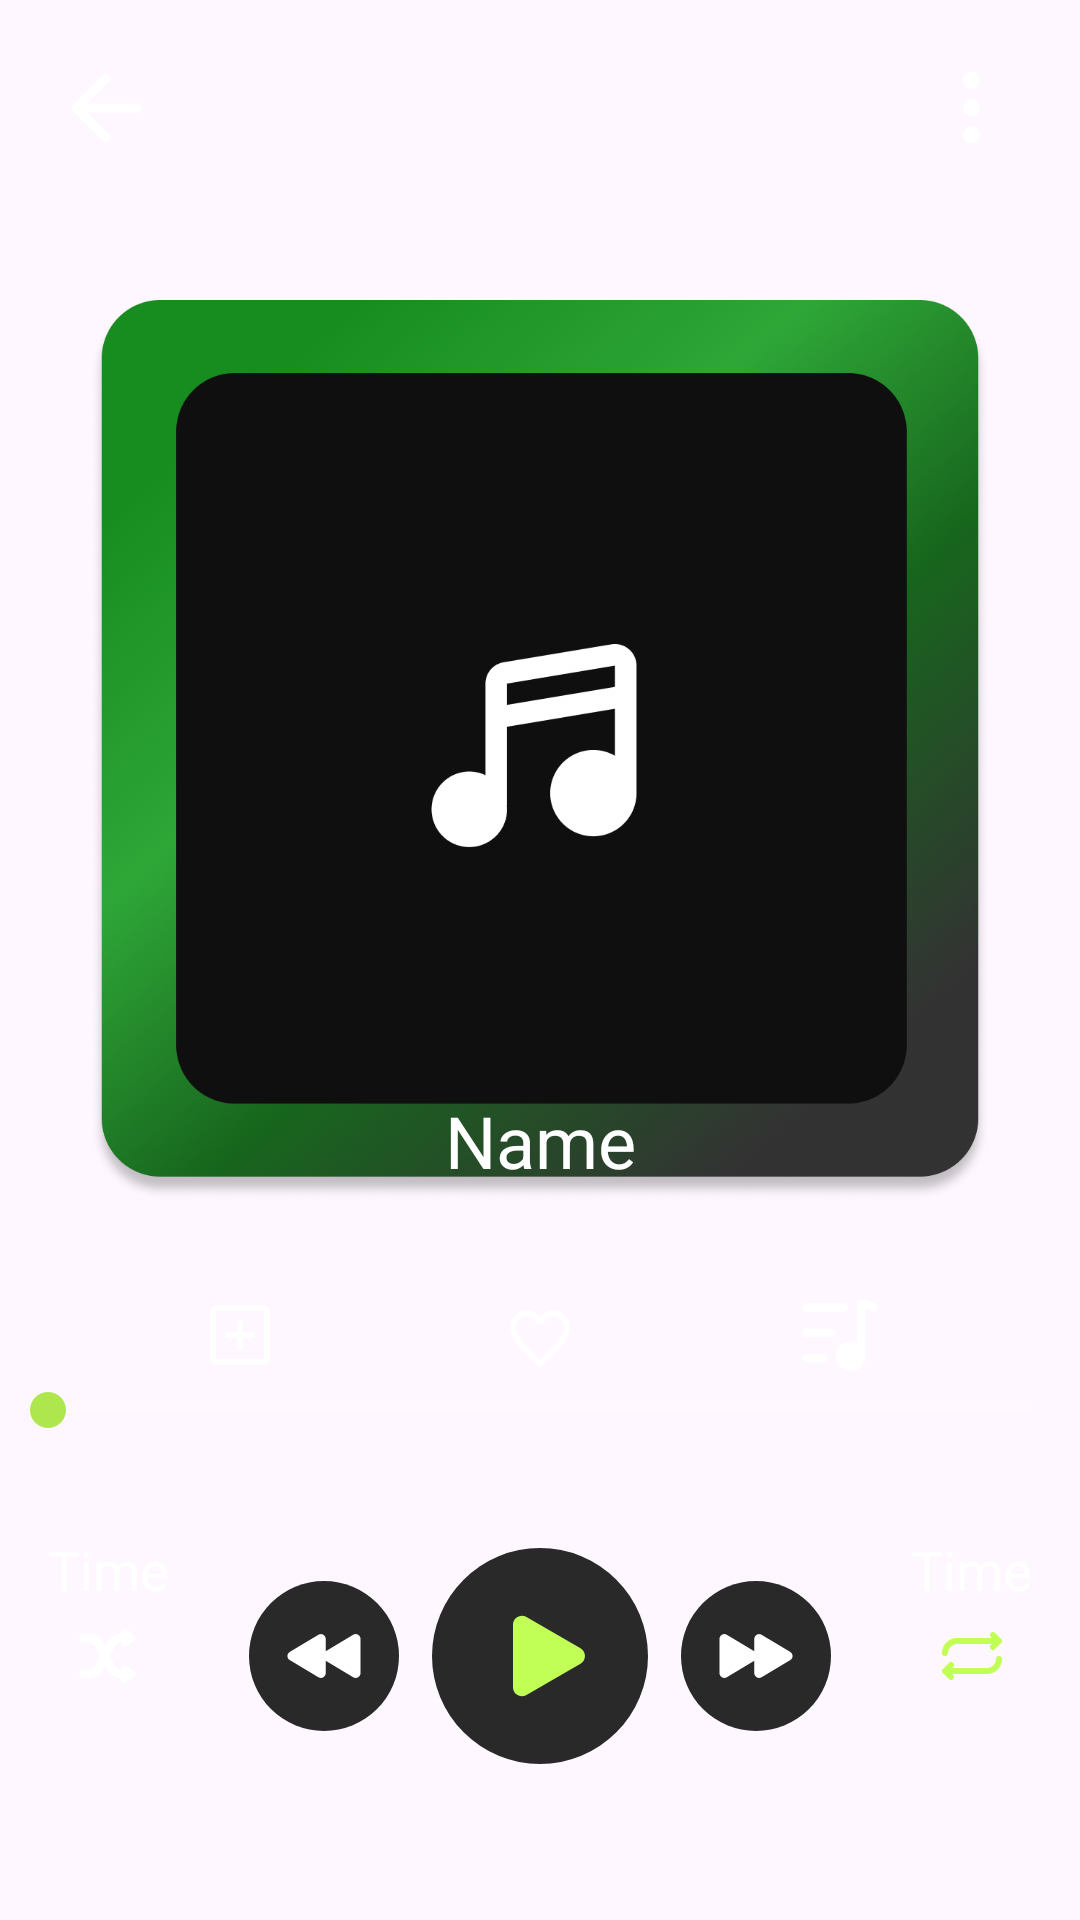

Where to tap for icons on this 1080×1920 app screen, as point (x, y):
iconamoon playlist repeat list: point (972, 1656)
